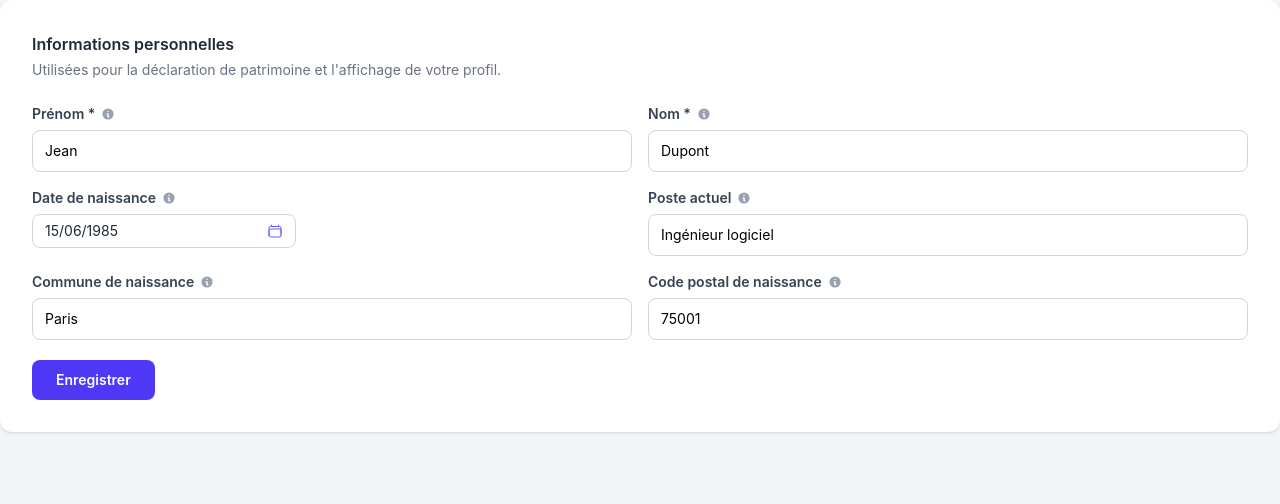
PersonalInfoPanel › affiche le message de succès après sauvegarde
Click the button "Enregistrer".
click(93, 380)  # box [32,360,155,400]
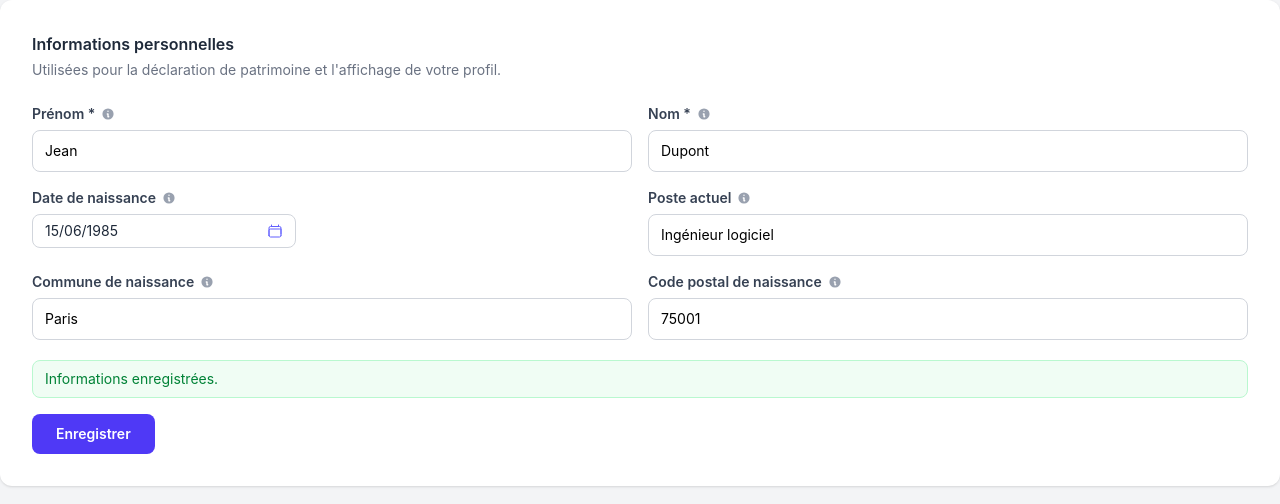
Now the text "Informations enregistrées." is shown, box [32,360,1248,398]
